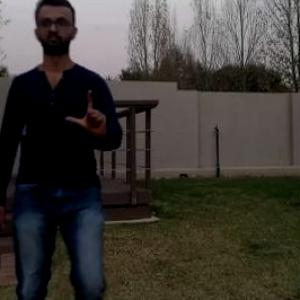land_hand: (61, 84, 115, 146)
